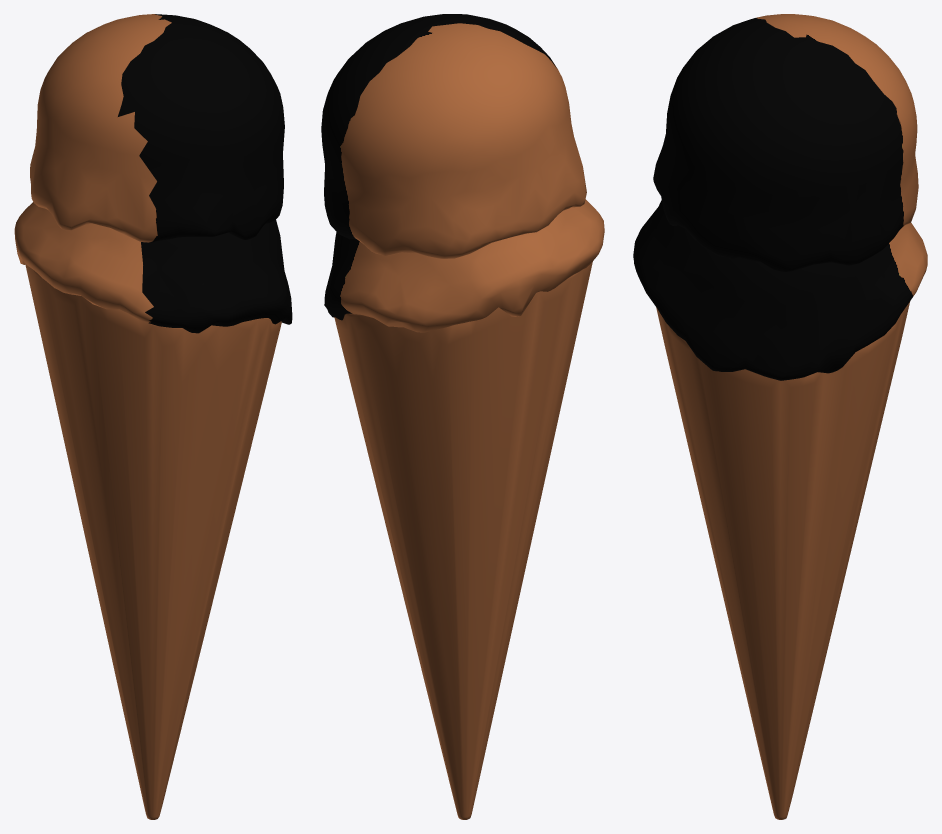
The model's file is ice_cream.fbx.
The picture shows the model from 3 angles, left to right: view 1: azimuth 30°, elevation 25°; view 2: azimuth 150°, elevation 25°; view 3: azimuth 270°, elevation 25°; orthographic projection.
Parts seen in each view (by area): view 1: Cylinder, Icosphere.001, Icosphere; view 2: Cylinder, Icosphere.001, Icosphere; view 3: Cylinder, Icosphere.001, Icosphere.
Boxes of the visible parts, x1,y1,x2,y2 form: Cylinder: [25, 263, 281, 819]; Icosphere.001: [30, 14, 284, 242]; Icosphere: [14, 202, 292, 333]; Cylinder: [334, 261, 592, 819]; Icosphere.001: [321, 14, 586, 258]; Icosphere: [324, 199, 604, 332]; Cylinder: [656, 302, 909, 819]; Icosphere.001: [653, 14, 918, 271]; Icosphere: [633, 200, 927, 380].
Size of the model in its own units: 184 by 574 by 193.
3 materials, 3 textured.
